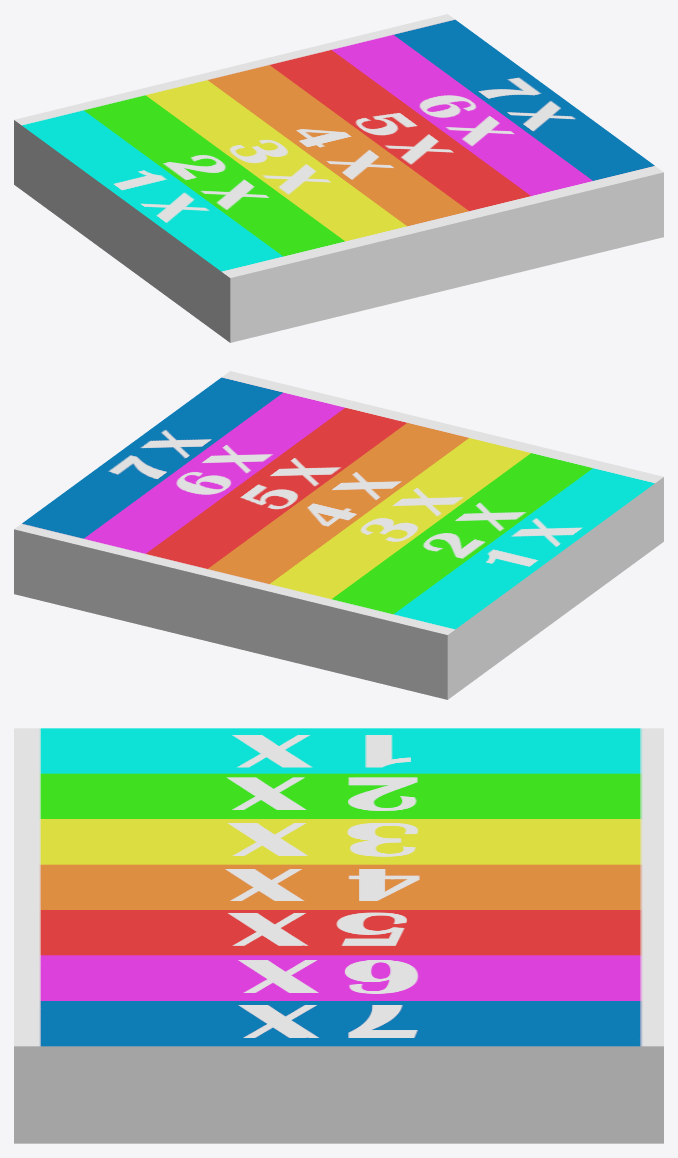
The model's file is finale.fbx.
3 views of the same model, one above another, from view 1: azimuth 30°, elevation 25°; view 2: azimuth 150°, elevation 25°; view 3: azimuth 270°, elevation 25° (orthographic). The views are drawn at different scales.
Visible parts, largest first — view 1: Cube.025, Cube.047, Cube.050, Cube.052, Cube.048, Cube.051, Cube.049; view 2: Cube.025, Cube.047, Cube.050, Cube.052, Cube.048, Cube.051, Cube.049; view 3: Cube.052, Cube.025, Cube.047, Cube.048, Cube.049, Cube.050, Cube.051.
Boxes of the visible parts, x1,y1,x2,y2 form: Cube.025: [14, 104, 292, 342]; Cube.047: [76, 89, 354, 327]; Cube.050: [262, 44, 539, 282]; Cube.052: [386, 14, 663, 252]; Cube.048: [138, 74, 415, 312]; Cube.051: [324, 29, 601, 267]; Cube.049: [200, 59, 477, 297]; Cube.025: [385, 461, 663, 699]; Cube.047: [323, 446, 601, 684]; Cube.050: [138, 401, 415, 639]; Cube.052: [14, 371, 291, 609]; Cube.048: [262, 431, 539, 669]; Cube.051: [76, 386, 353, 624]; Cube.049: [200, 416, 477, 654]; Cube.052: [14, 1001, 663, 1143]; Cube.025: [14, 728, 663, 773]; Cube.047: [14, 773, 663, 818]; Cube.048: [14, 819, 663, 864]; Cube.049: [14, 864, 663, 909]; Cube.050: [14, 910, 663, 955]; Cube.051: [14, 955, 663, 1000].
Bounding box in the file's own units: 695 × 99.23 × 600.
